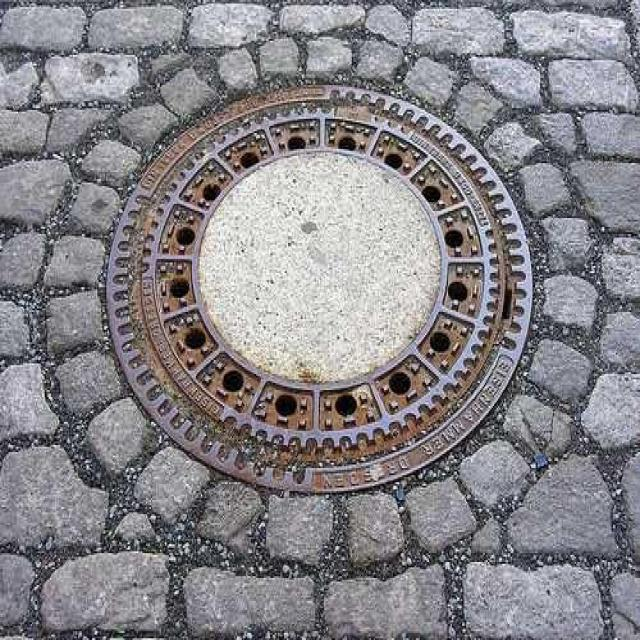manhole: (106, 87, 533, 491)
